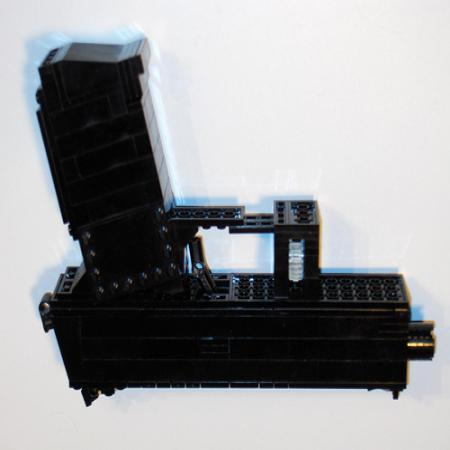Pistol: (36, 38, 436, 409)
